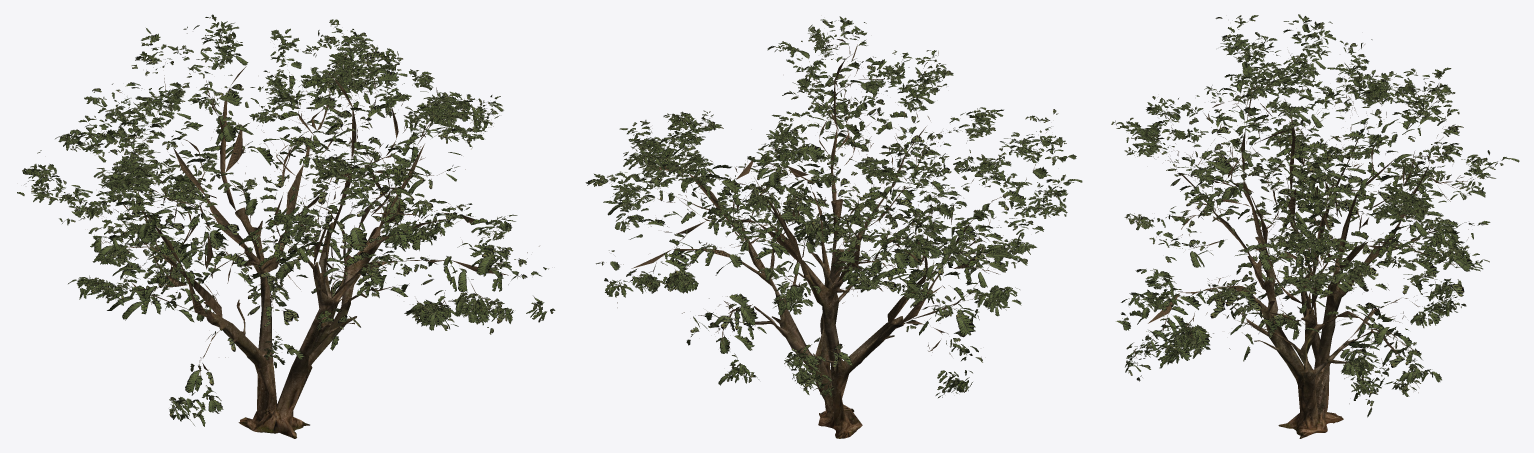
File: jacaranda.glb
3 renders of one model, left to right at view 1: azimuth 30°, elevation 25°; view 2: azimuth 150°, elevation 25°; view 3: azimuth 270°, elevation 25°, orthographic. The views are drawn at different scales.
Parts seen in each view (by area): view 1: jacaranda_tree_LOD0; view 2: jacaranda_tree_LOD0; view 3: jacaranda_tree_LOD0.
Boxes of the visible parts, x1,y1,x2,y2 form: jacaranda_tree_LOD0: (17,14,555,438); jacaranda_tree_LOD0: (585,16,1082,438); jacaranda_tree_LOD0: (1111,14,1519,438).
Size of the model in its own units: 24.17 by 19.39 by 18.94.
Materials: 3 (3 with a texture image).
